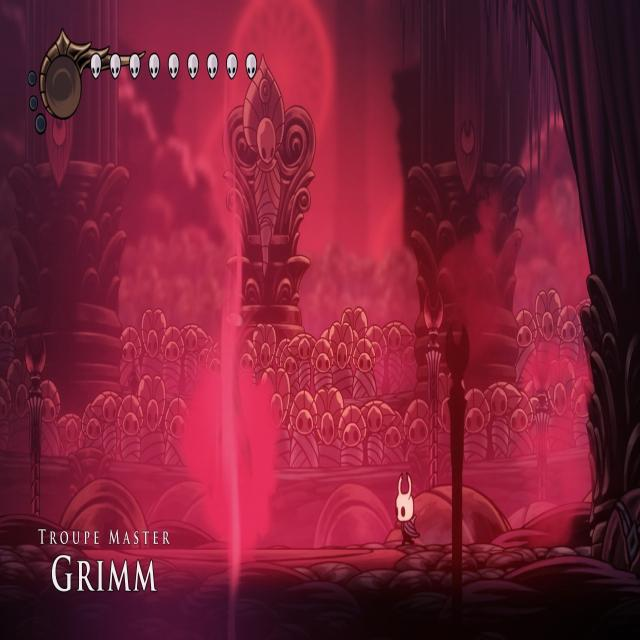Player: (394, 466, 421, 548)
